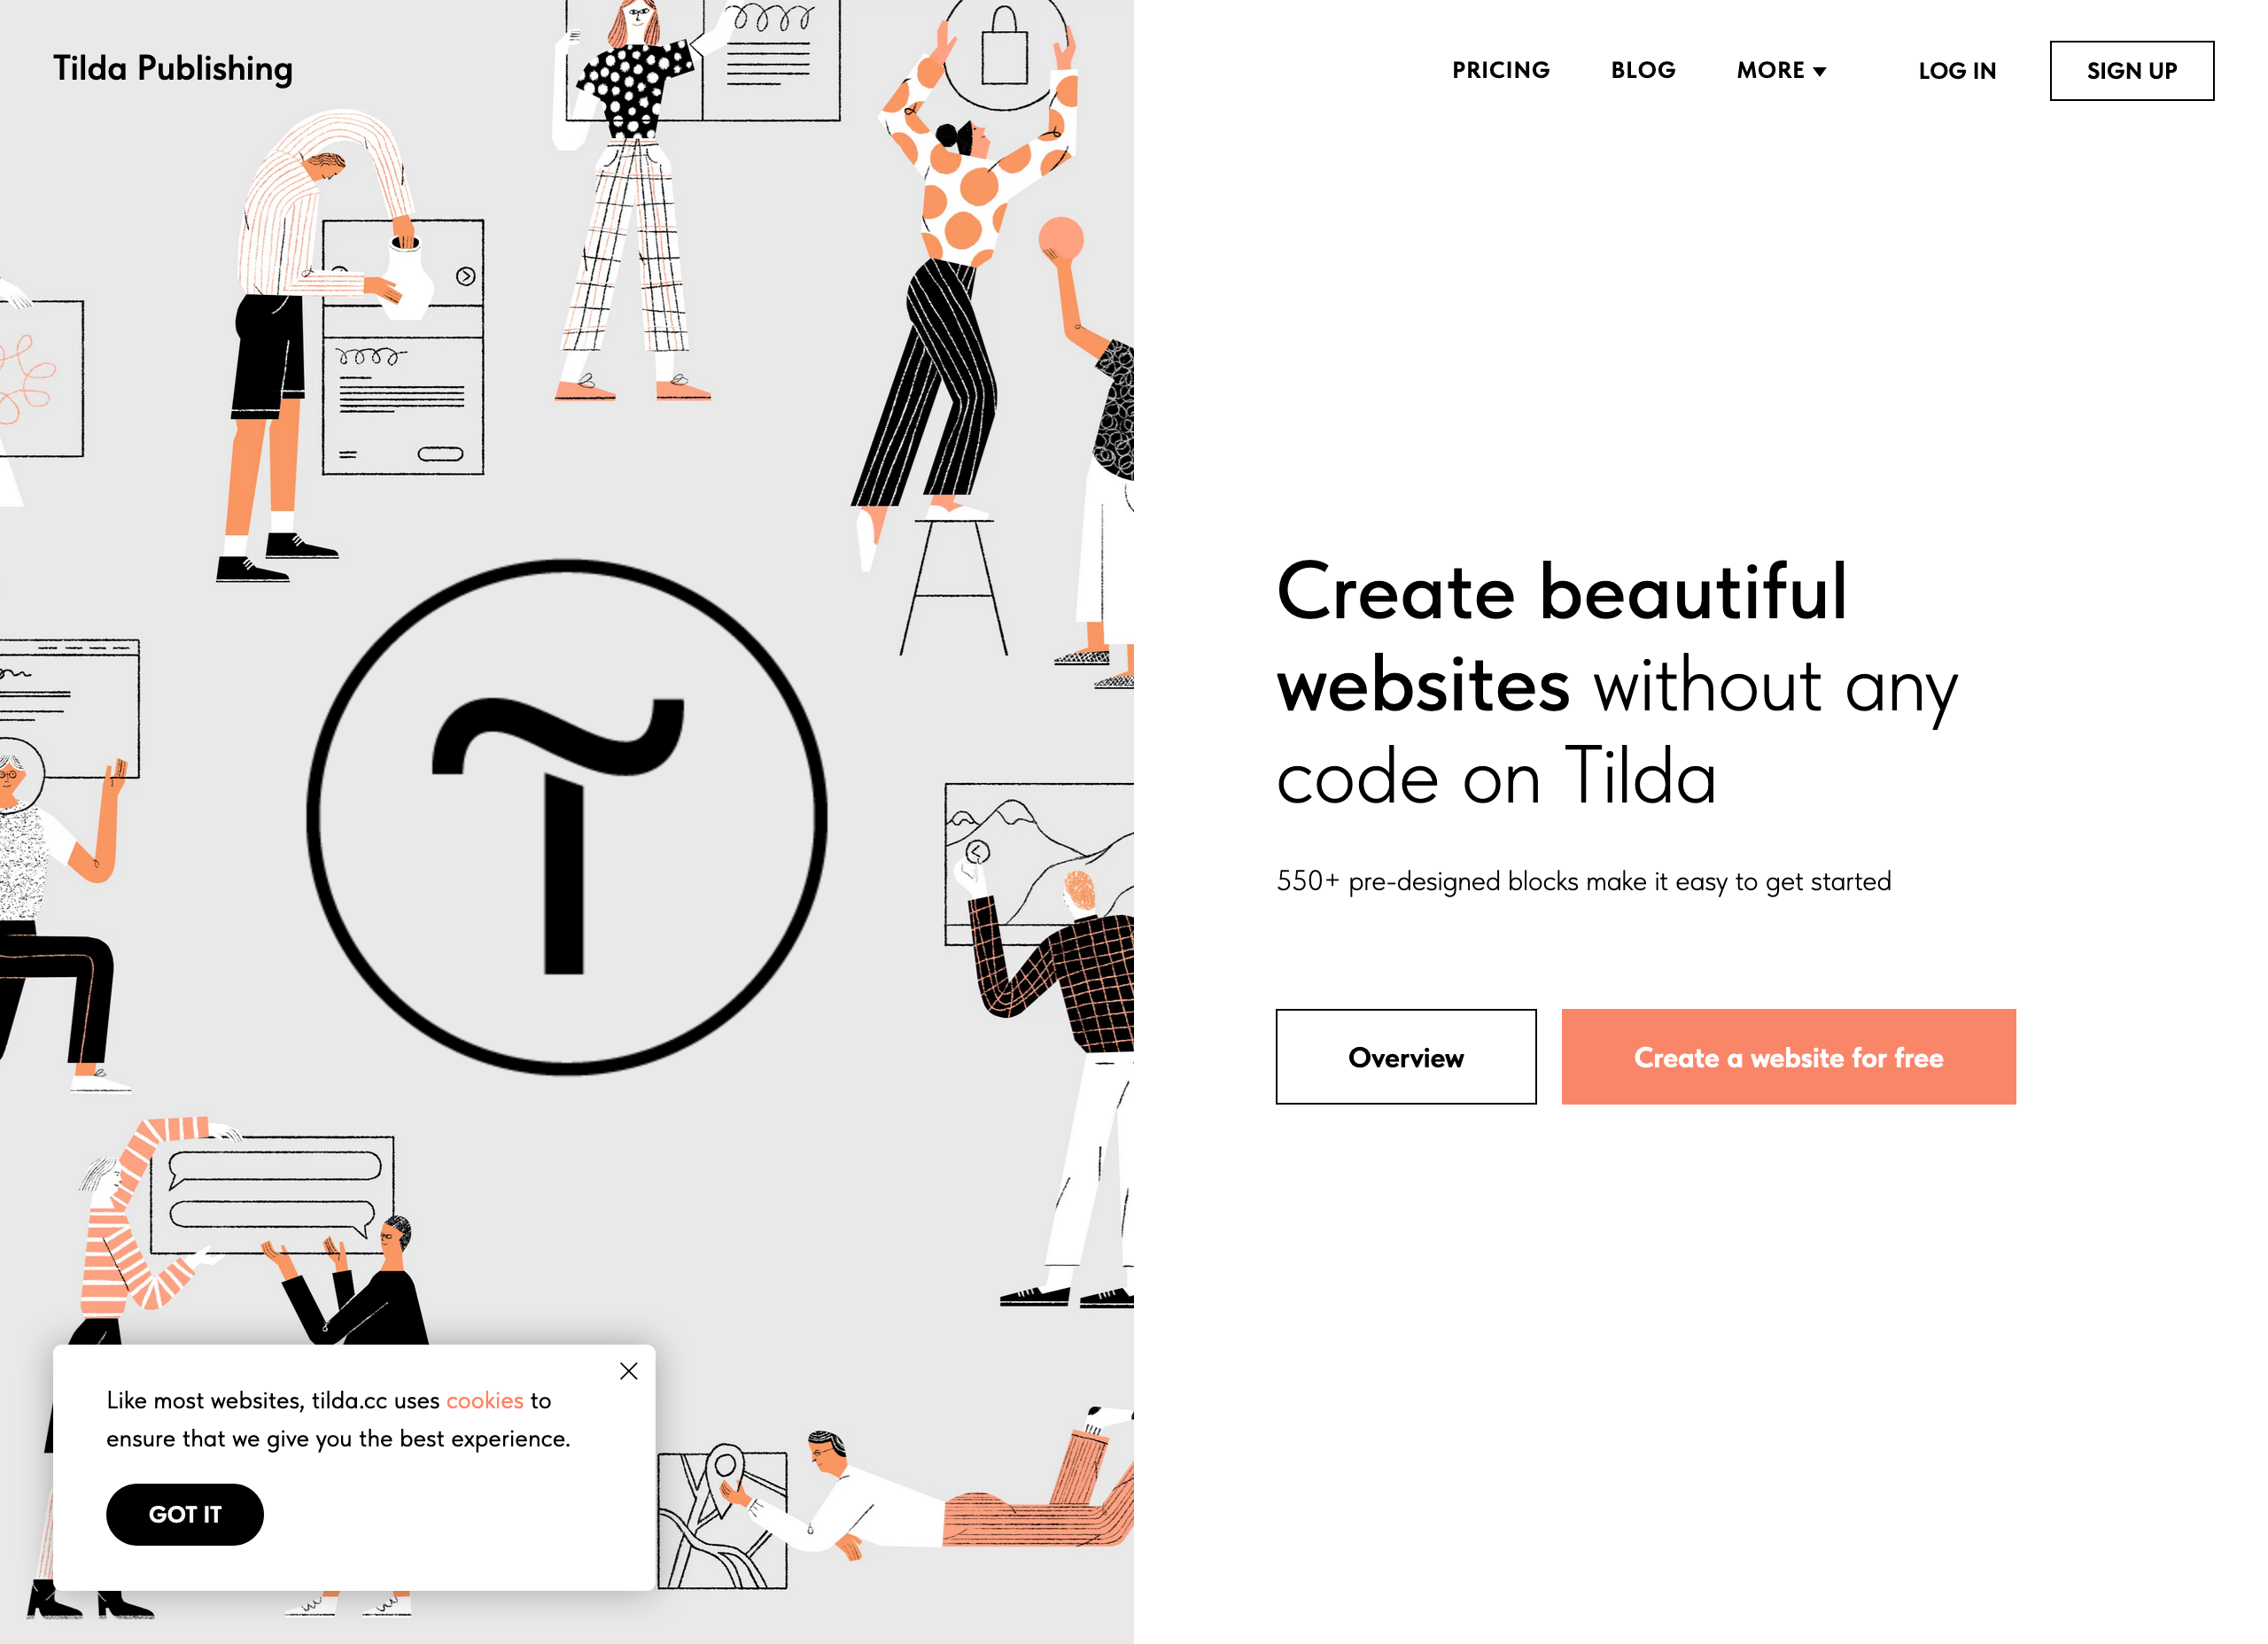Login: (1903, 39, 2016, 100)
